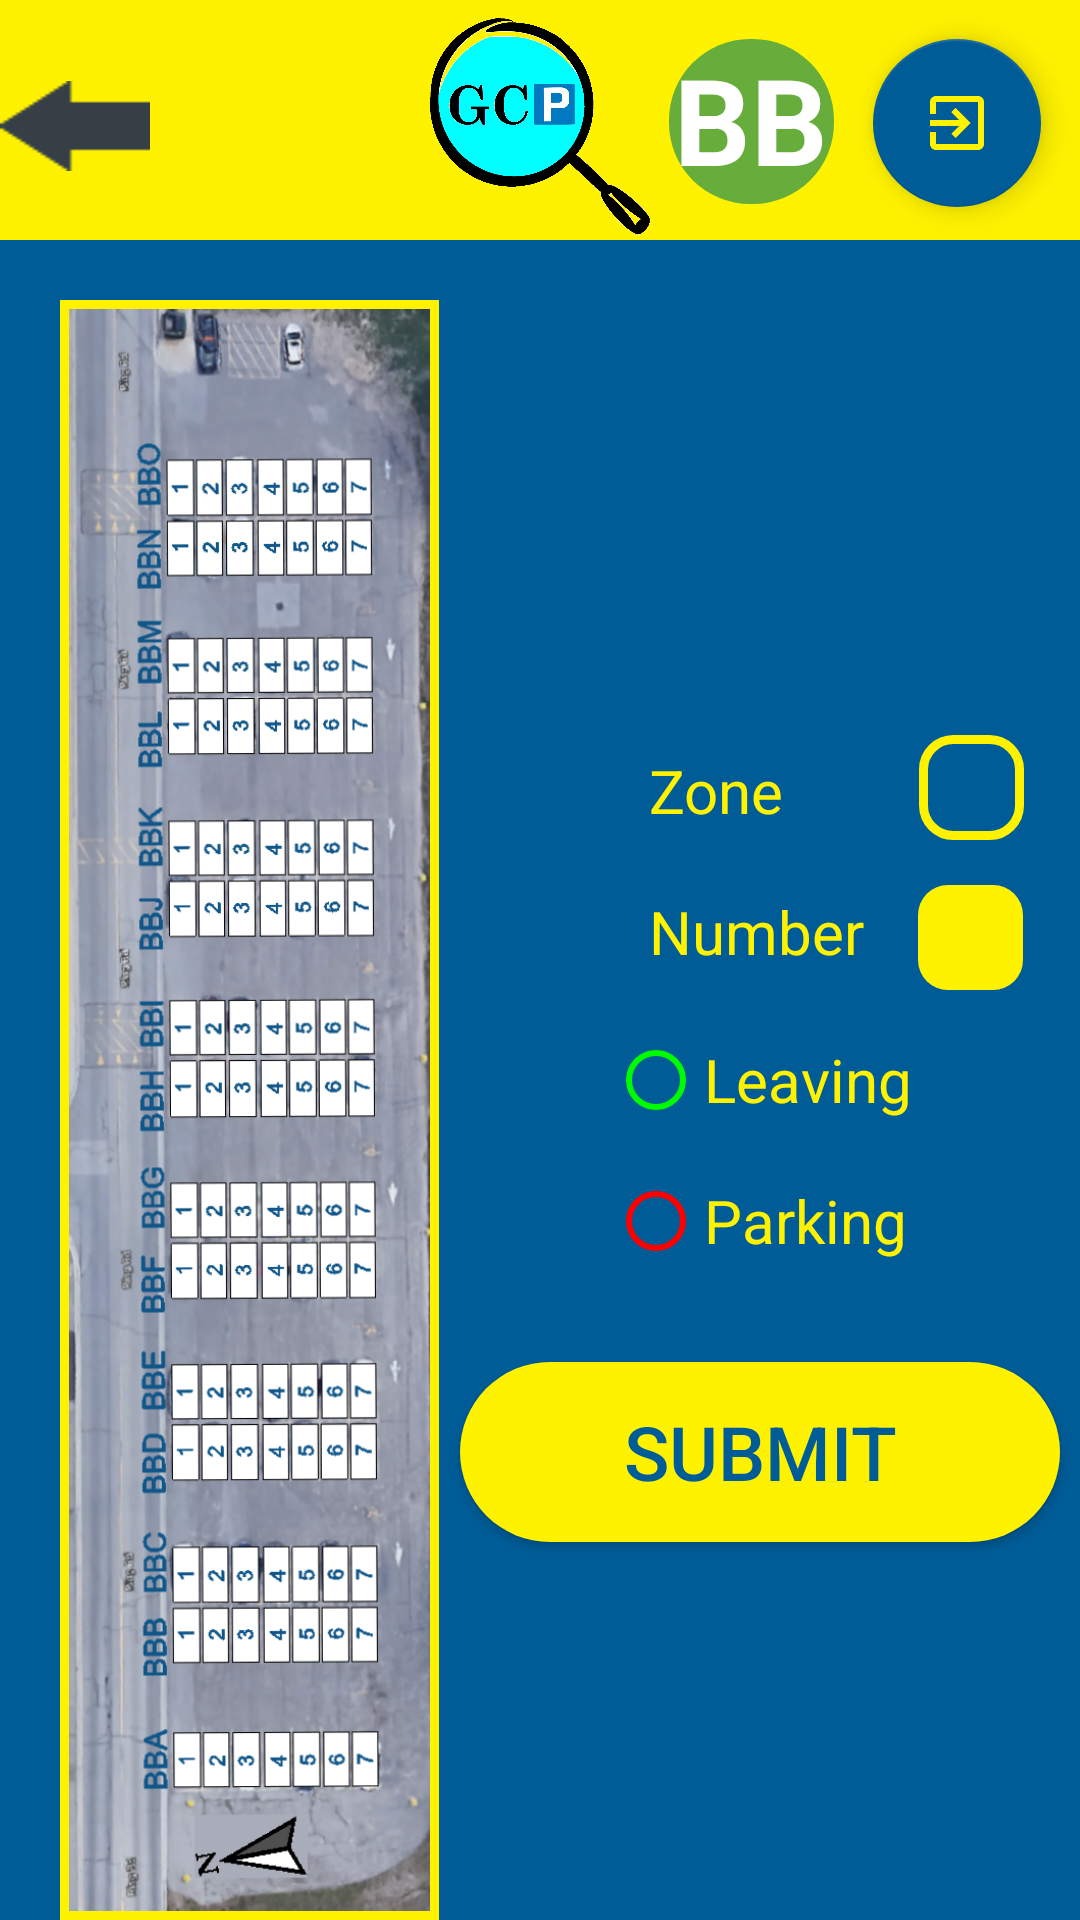

Screen size 1080*1920. Icon name, then its center in pixels as (x=x, y=y):
back: (x=75, y=126)
exit: (x=957, y=123)
